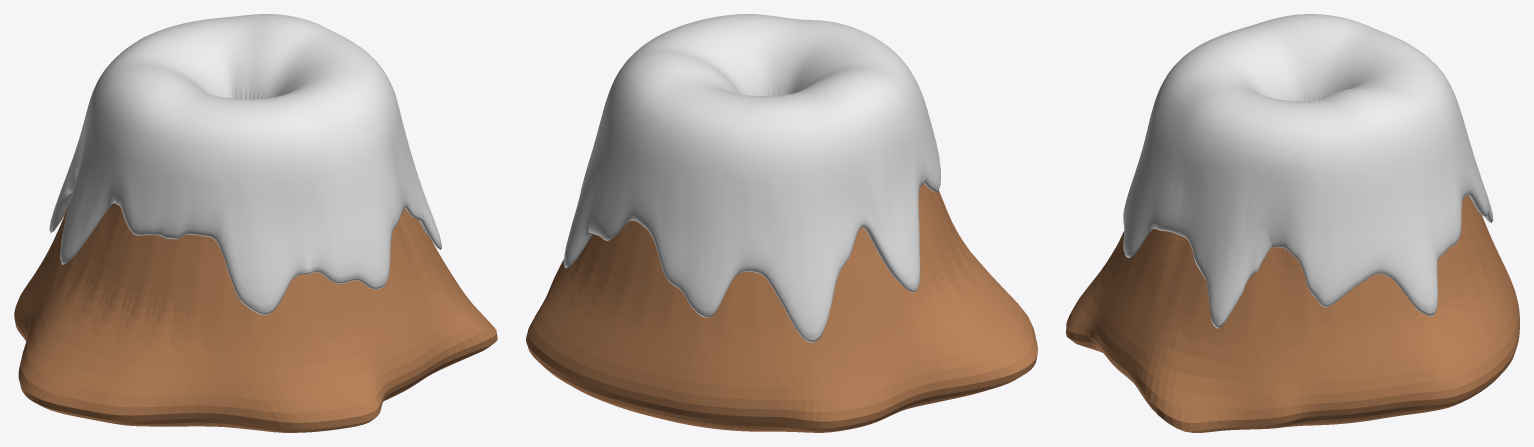
File: Sweetroll.fbx
The picture shows the model from 3 angles, left to right: view 1: azimuth 30°, elevation 25°; view 2: azimuth 150°, elevation 25°; view 3: azimuth 270°, elevation 25°; orthographic projection. The views are drawn at different scales.
Parts seen in each view (by area): view 1: LostSweetroll; view 2: LostSweetroll; view 3: LostSweetroll.
Part boxes in pixels (box(x1,y1,x2,y2)): LostSweetroll: box(14, 14, 497, 432); LostSweetroll: box(526, 14, 1037, 432); LostSweetroll: box(1066, 14, 1519, 432).
Size of the model in its own units: 11.97 by 7.87 by 11.03.
